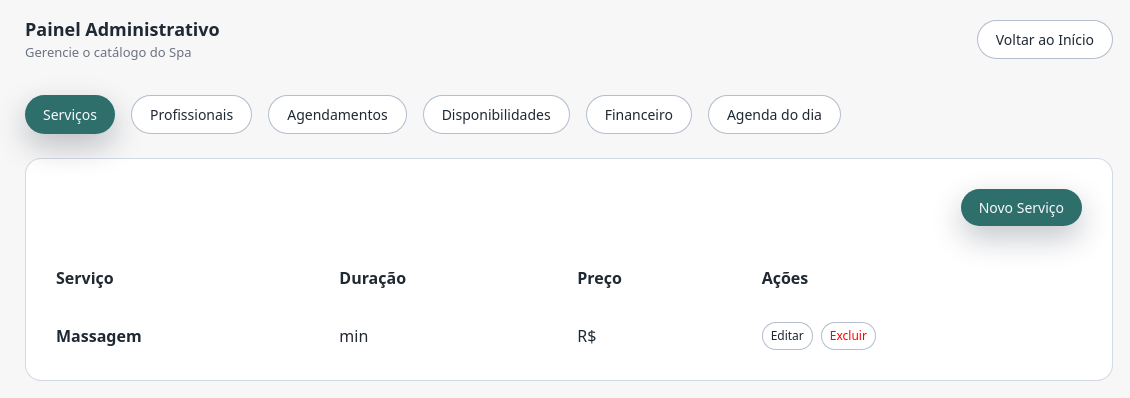
agenda_do_dia_link_goes_to_agenda › agenda_do_dia_link_goes_to_agenda
Click the link "Agenda do dia": (774, 114) [708, 94, 841, 134]
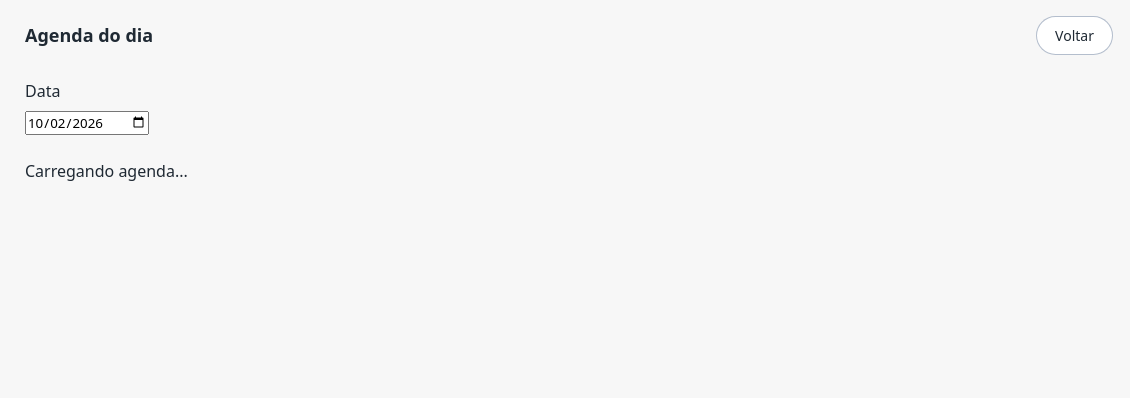
expect the text "Carregando agenda..." is shown: met, box [25, 160, 188, 182]
